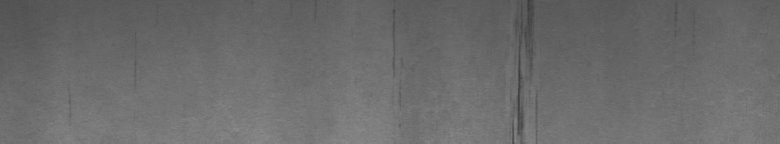hd: (508, 4, 538, 136)
